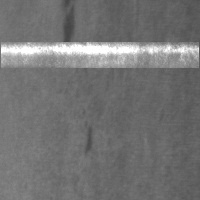inclusion: (55, 1, 77, 62), (79, 119, 99, 158)
scratches: (1, 42, 199, 68)
